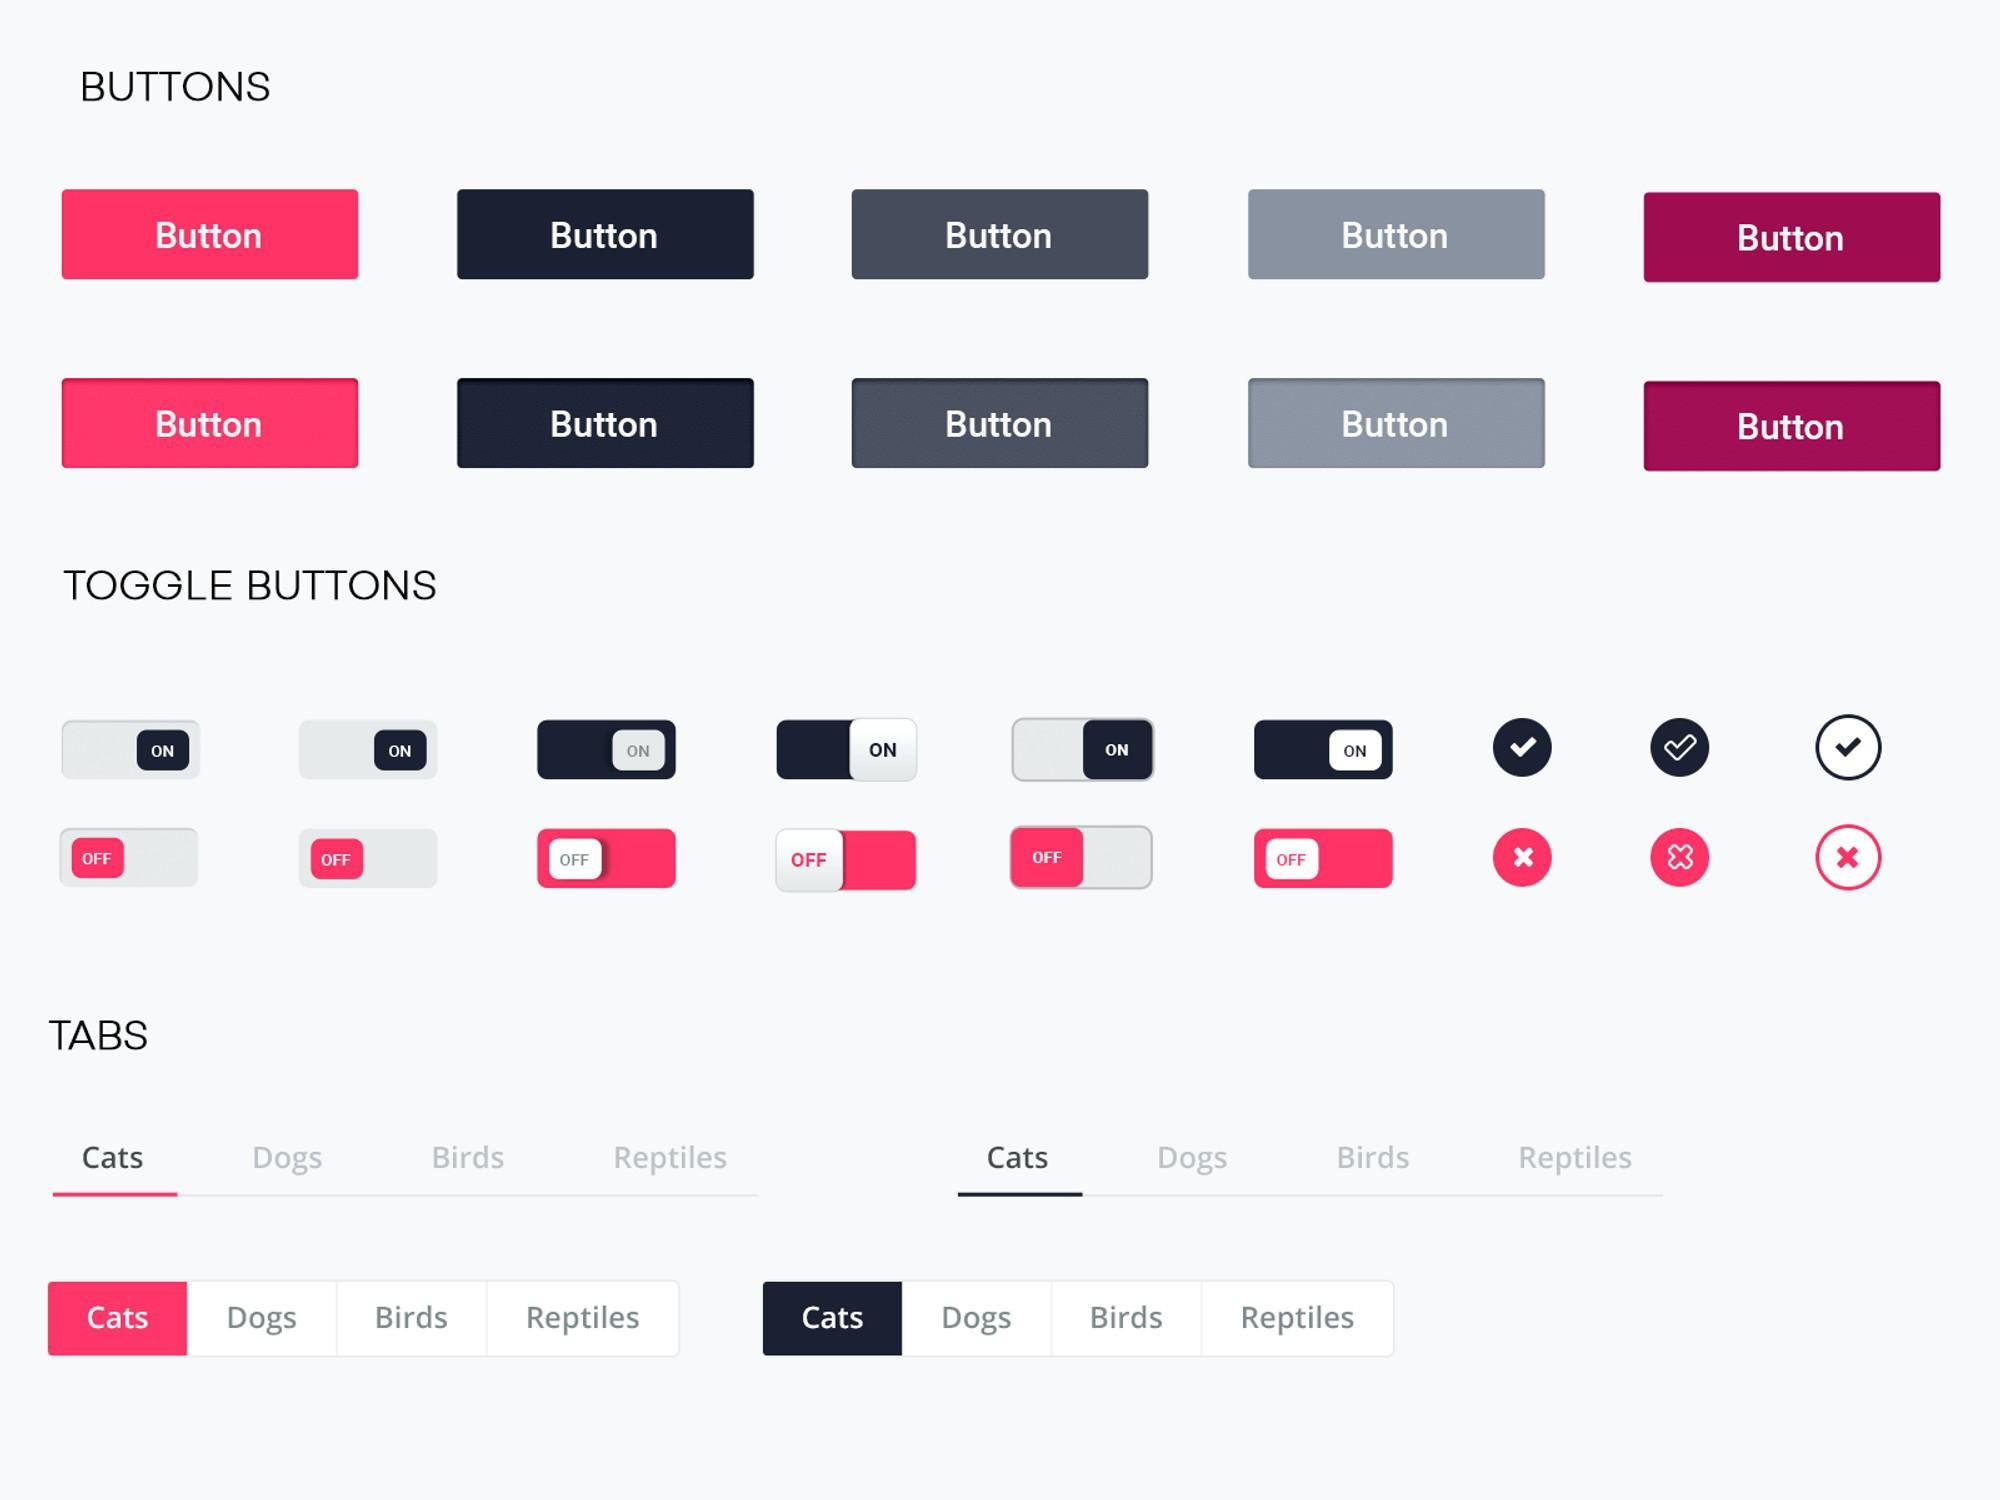button: (850, 187, 1154, 284), (457, 377, 757, 473), (1643, 380, 1943, 476), (1644, 191, 1943, 287), (61, 377, 362, 470), (458, 187, 756, 280), (61, 191, 361, 280), (850, 380, 1150, 470), (1247, 377, 1546, 466), (1249, 187, 1545, 276), (1202, 1275, 1394, 1355), (480, 1279, 677, 1357), (1049, 1283, 1198, 1358), (187, 1279, 334, 1353), (54, 1279, 187, 1360), (764, 1279, 896, 1360), (335, 1279, 479, 1353), (906, 1287, 1052, 1353)
checkbox: (1814, 715, 1885, 783), (1816, 826, 1887, 893), (1647, 826, 1715, 892), (1649, 715, 1715, 780), (1490, 715, 1557, 778), (1491, 827, 1557, 889)
label: (61, 559, 441, 611), (77, 68, 274, 110), (44, 1007, 165, 1068)
switch: (776, 824, 920, 897), (1254, 715, 1398, 786), (1009, 824, 1153, 893), (1255, 827, 1402, 893), (532, 720, 682, 785), (299, 826, 441, 893), (1013, 718, 1156, 785), (778, 718, 923, 782), (66, 718, 203, 785), (535, 829, 677, 890), (60, 827, 203, 886), (302, 722, 443, 778)
